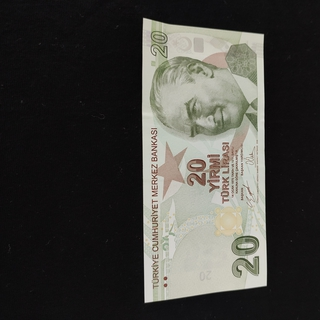20TLFront: (135, 17, 266, 303)
